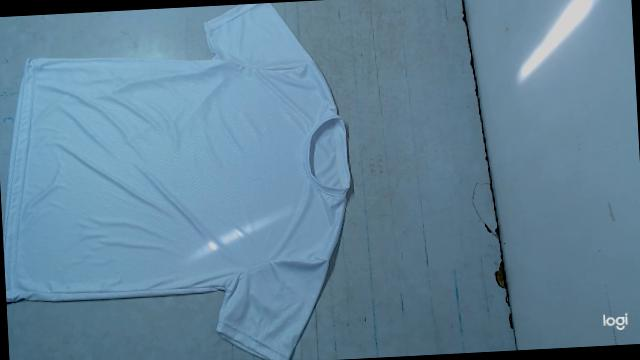new-garment: (2, 2, 350, 360)
